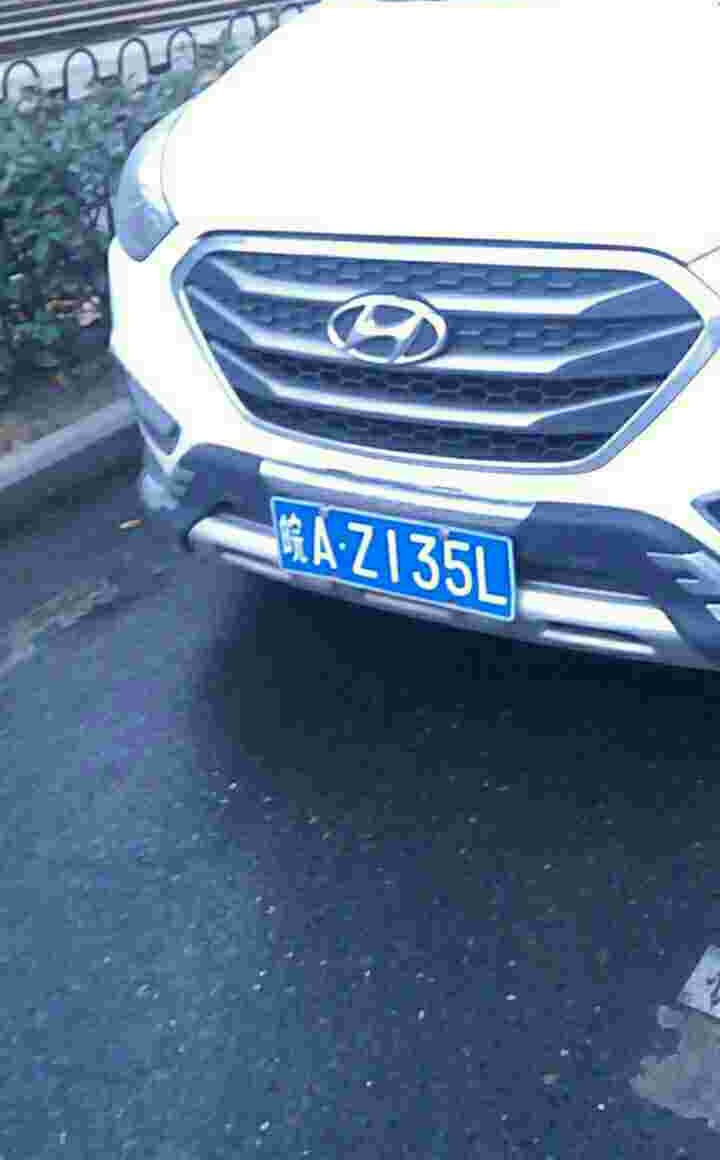license_plate: (263, 488, 525, 627)
